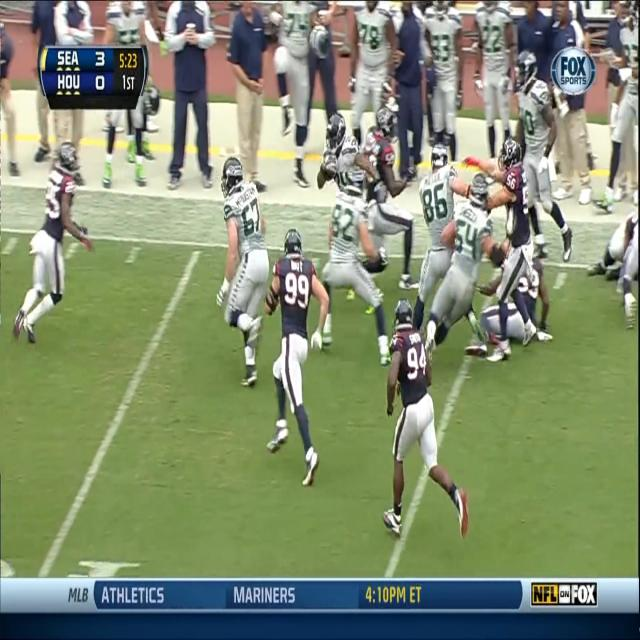football: (322, 152, 336, 182)
players: (382, 298, 467, 534), (14, 145, 92, 359), (262, 218, 326, 476), (319, 164, 391, 365), (427, 162, 498, 364), (406, 130, 468, 356), (514, 62, 577, 267), (218, 148, 270, 386), (491, 143, 547, 342), (364, 107, 420, 290), (317, 112, 378, 266), (479, 274, 542, 356)
